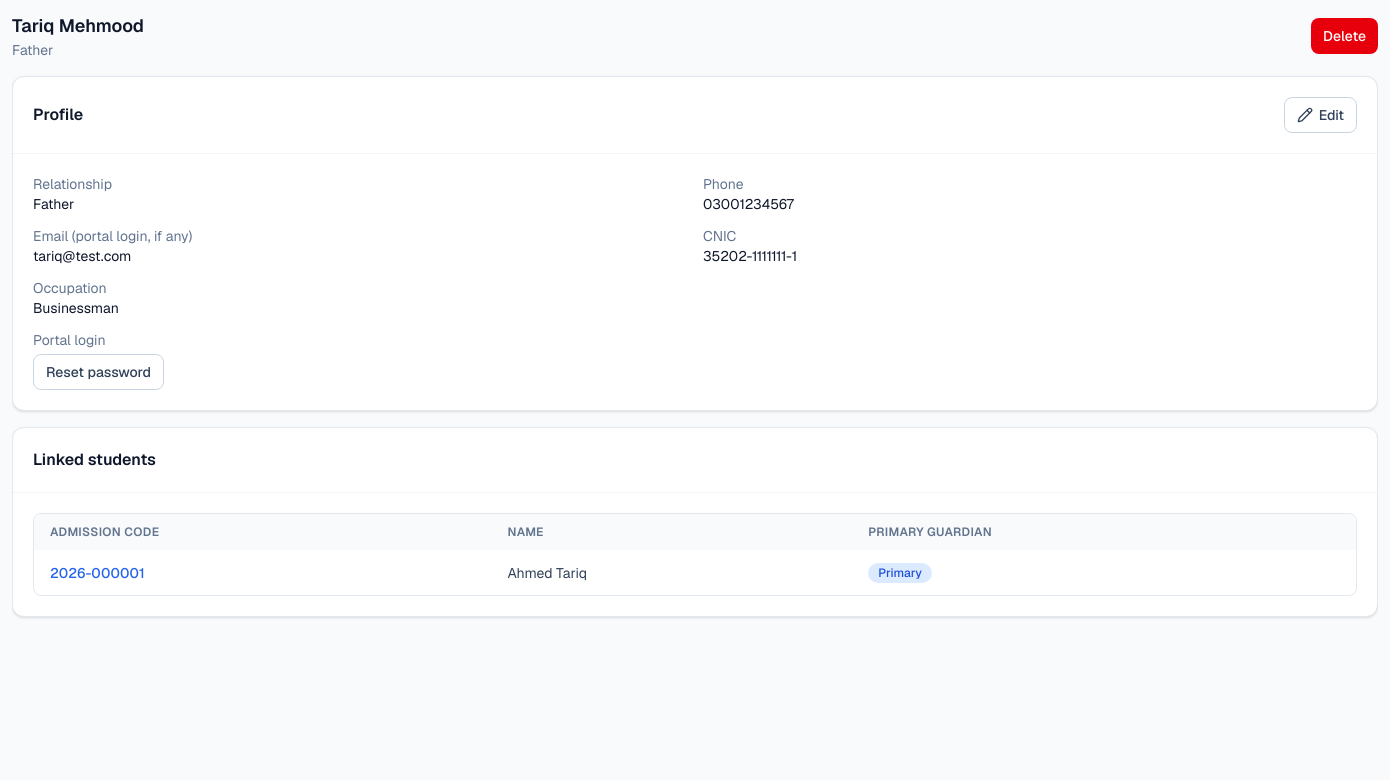
Test: GuardianDetailPage › surfaces the backend's 409 leave-request-blocker message instead of a generic error
Expected: the heading "Tariq Mehmood" is shown, [12,12,144,40]
What coordinates should you click on to do the following:
click the button "Delete"
I would click on:
 (1344, 36)
Its box is [1311,18,1378,54].
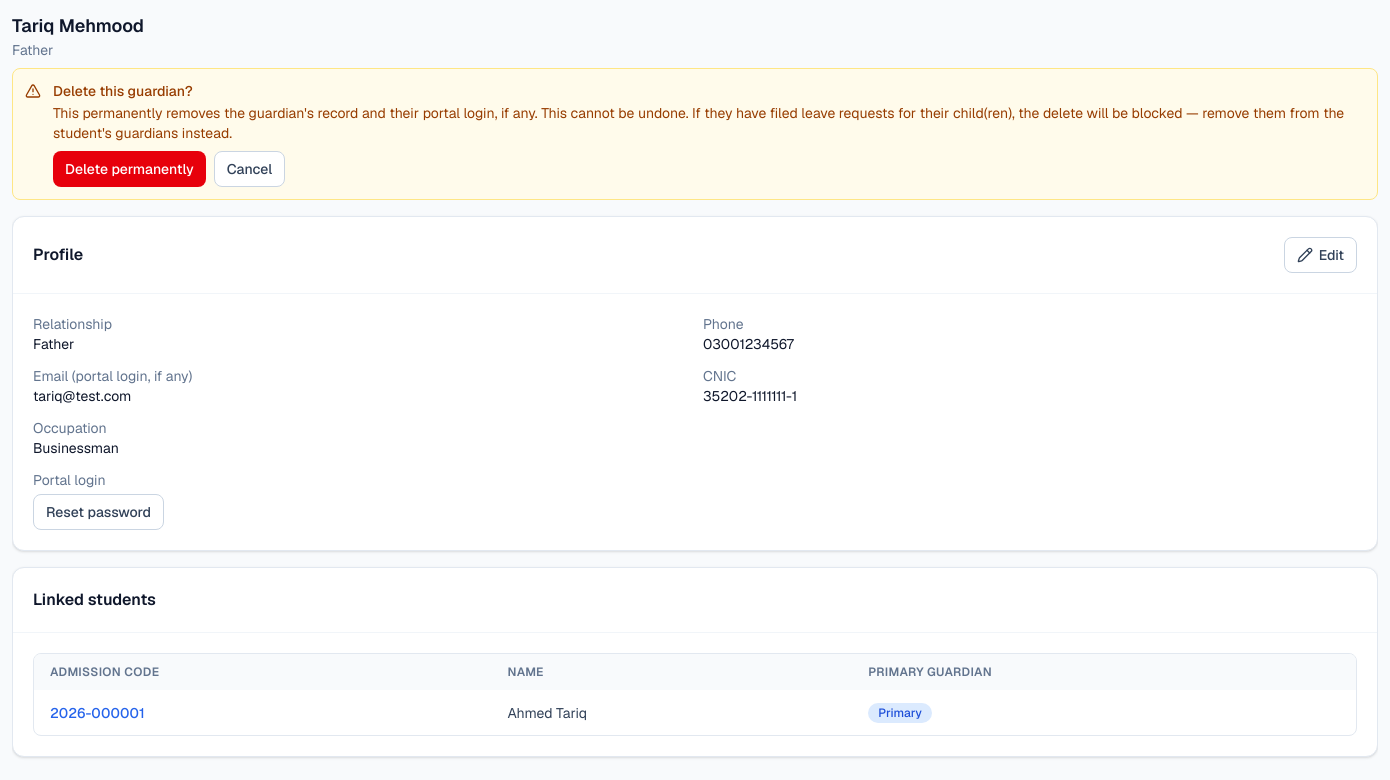
What coordinates should you click on to do the following:
click the button "Delete permanently"
I would click on:
 (129, 169)
Its box is [53,151,206,187].
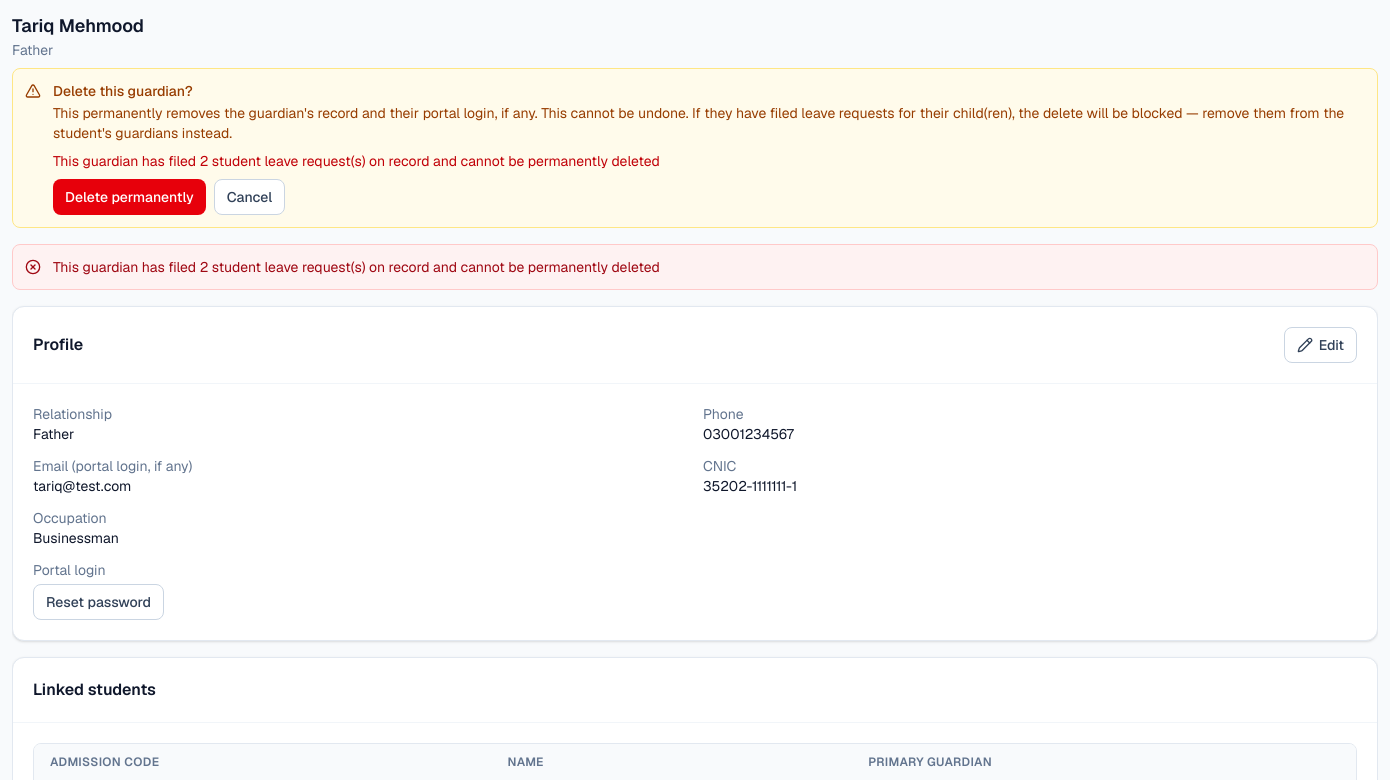
Expected: the text "cannot be permanently deleted" below "Delete this guardian?" is shown, [53,152,660,170]
